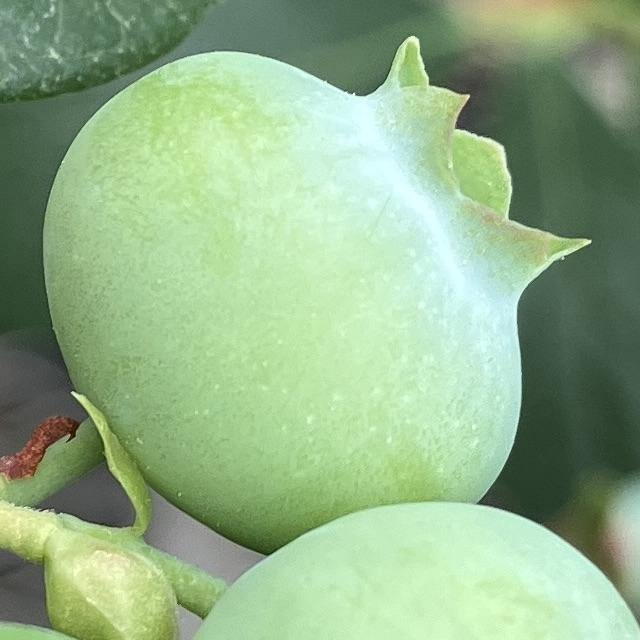Blueberries: (38, 31, 589, 549), (155, 497, 640, 640)
